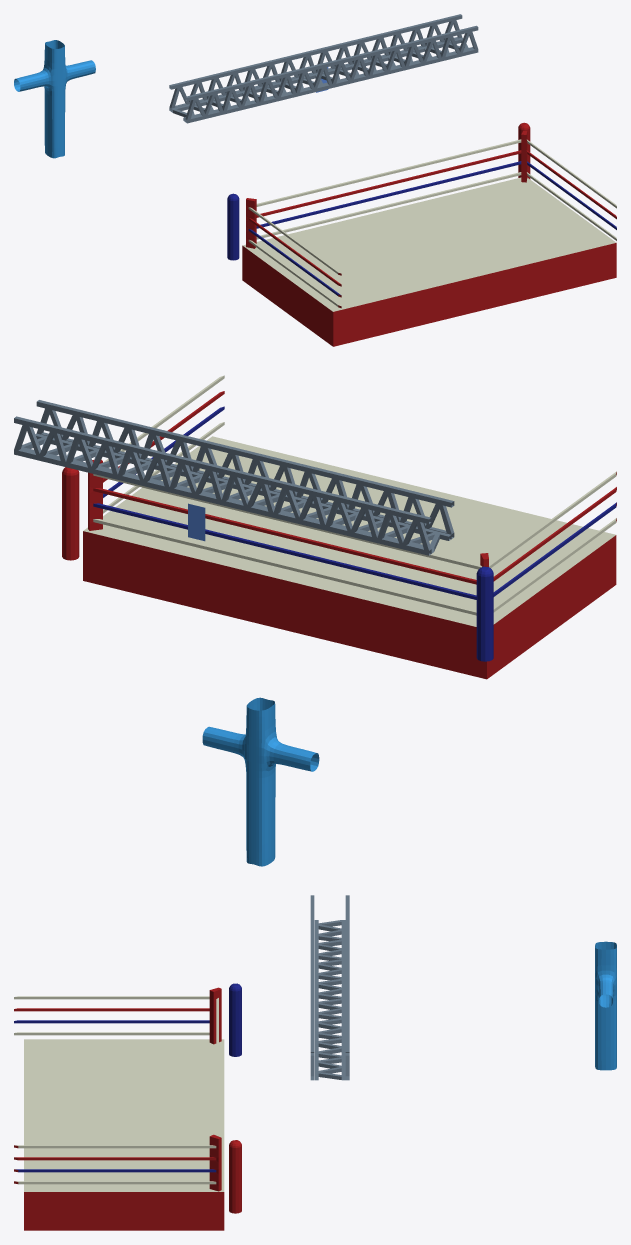
File: Escenario_amarillo.fbx
The picture shows the model from 3 angles, top to bottom: view 1: azimuth 30°, elevation 25°; view 2: azimuth 150°, elevation 25°; view 3: azimuth 270°, elevation 25°; orthographic projection. The views are drawn at different scales.
Visible parts, largest first — view 1: Ring, Fierros_techo, Inflable; view 2: Ring, Fierros_techo, Inflable; view 3: Ring, Fierros_techo, Inflable.
Boxes of the visible parts, x1,y1,x2,y2 form: Ring: (227,122,616,346); Fierros_techo: (169,14,478,123); Inflable: (14,40,95,158); Ring: (62,375,616,679); Fierros_techo: (14,400,454,555); Inflable: (202,697,319,866); Ring: (14,983,241,1230); Fierros_techo: (310,895,349,1080); Inflable: (595,941,616,1070).
Size of what is drawn, in the model's own units: 1474 by 645 by 2026.
